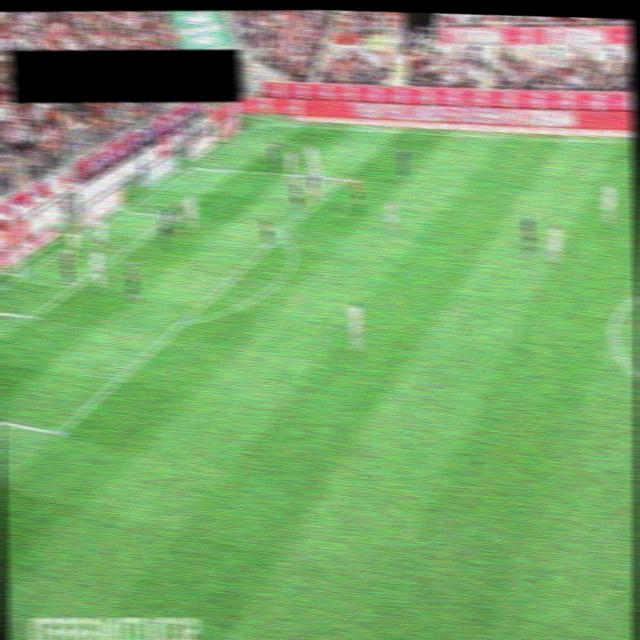bigarea_bottom_inner: (50, 426, 66, 438)
bigarea_top_inner: (335, 172, 351, 184)
bigarea_top_outter: (182, 160, 198, 172)
bottom_arc_area_intersection: (176, 314, 192, 327)
corner: (249, 116, 265, 128)
smallarea_bottom_inner: (23, 309, 39, 322)
smallarea_top_inner: (163, 209, 179, 221)
smallarea_top_outter: (114, 204, 131, 216)
top_arc_area_intersection: (272, 228, 288, 241)
